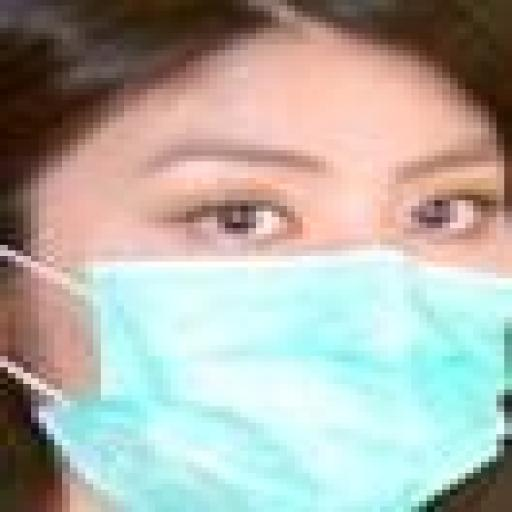mask: (8, 61, 512, 512)
